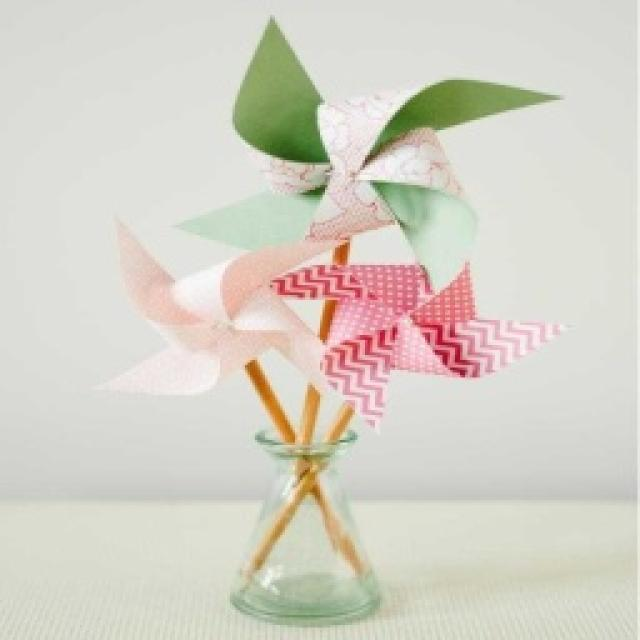pencil: (100, 12, 570, 628)
